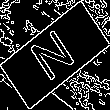N_SE: (27, 22, 83, 88)
